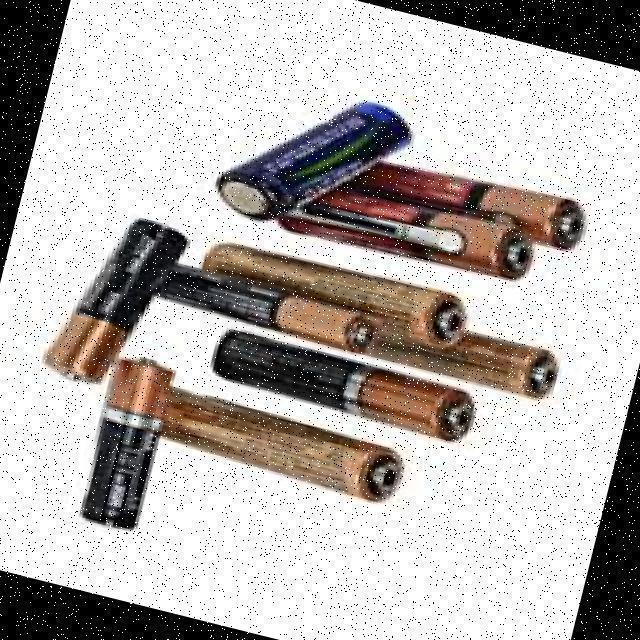AA: (41, 213, 193, 390), (214, 97, 420, 226), (74, 353, 179, 534)
